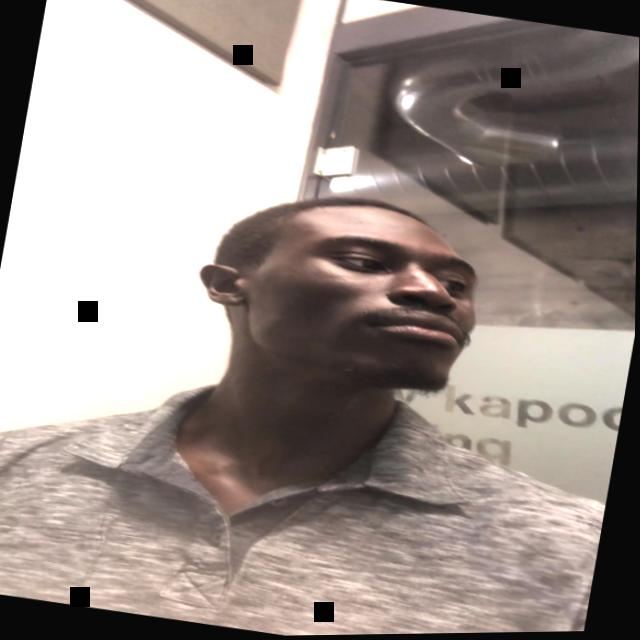NO-Mask: (239, 202, 489, 400)
